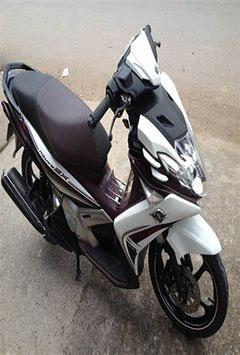motorcycle: (0, 6, 231, 352)
